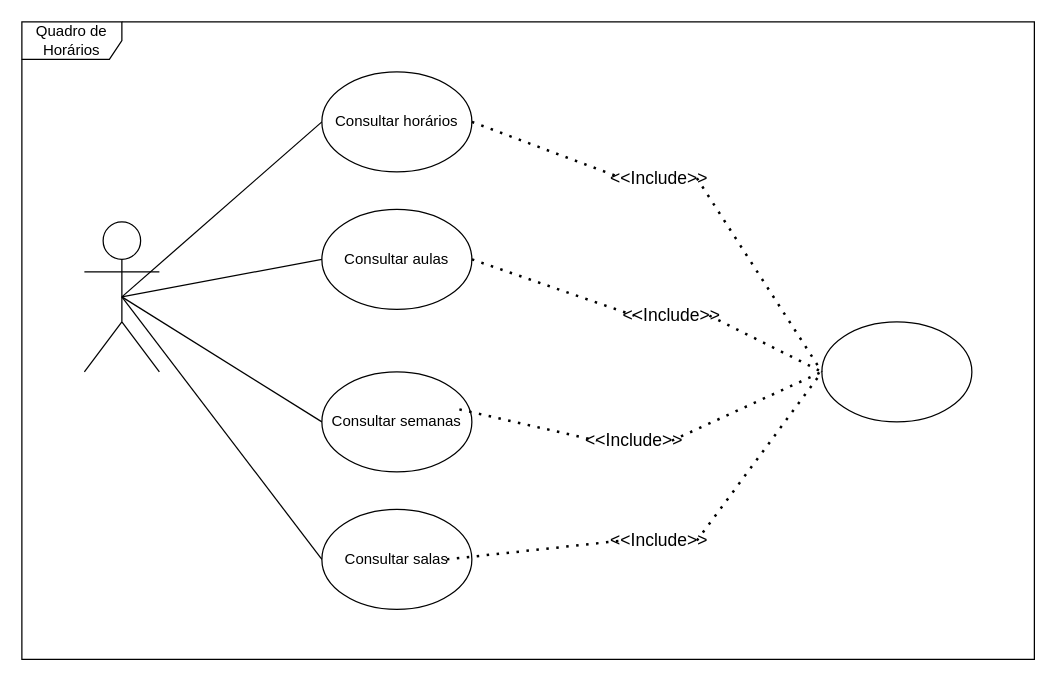
Some shapes in this 1056 by 681 pixel diagram are drawn without their labels. The shapes that lost their labels are listed below. From the top down, each one's centre as x and y in pixels, then its label:
pixel 121 296: Actor
pixel 896 371: Fazer login
